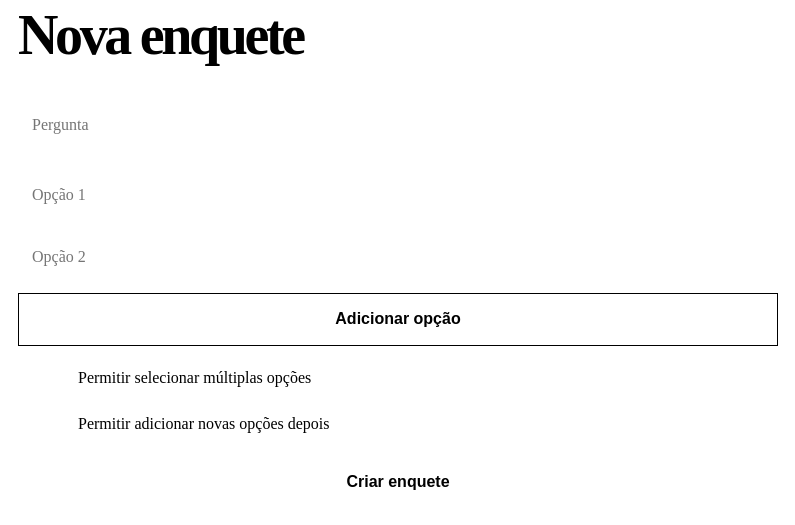
Test case: poll presentation › anchors API validation errors to the returned poll field
Type "Qual jogo escolheremos?" into the field labelled "Pergunta". click: [398, 125]
box: [18, 100, 778, 151]
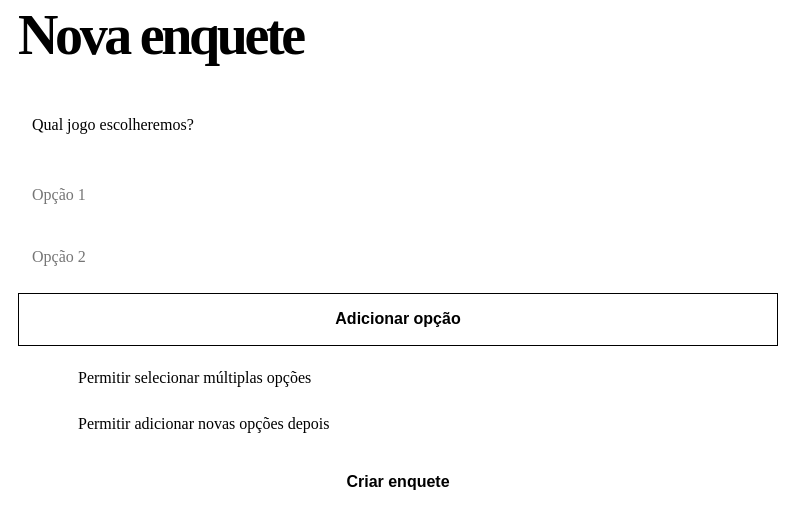
Type "Hades" into the field labelled "Opção 1". click: [398, 195]
box: [18, 170, 778, 221]
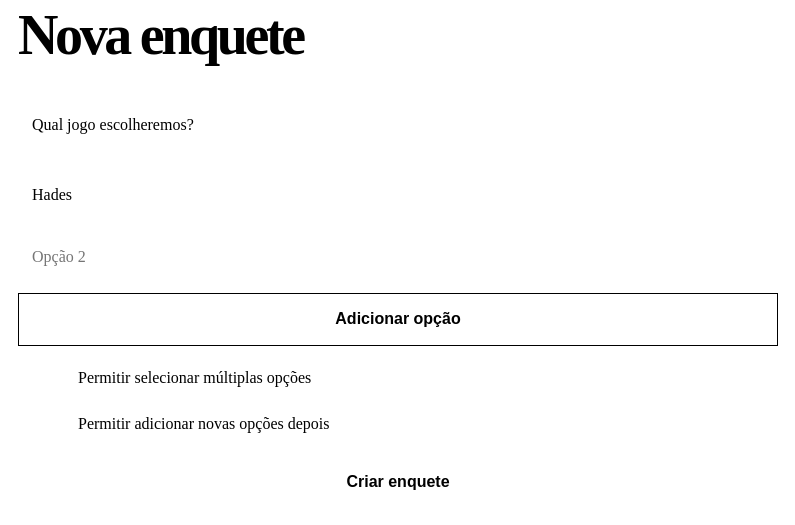
Type "Celeste" into the field labelled "Opção 2". click: [398, 257]
box: [18, 232, 778, 283]
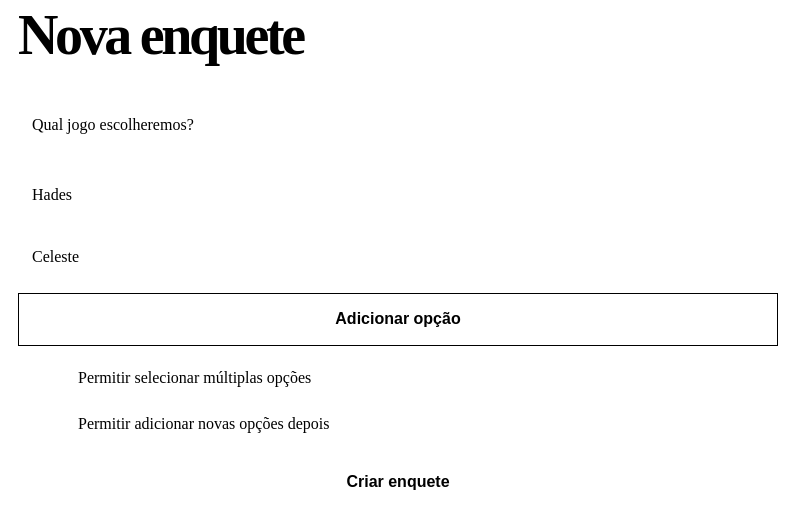
Click the button "Criar enquete". click: [398, 482]
box: [18, 456, 778, 508]
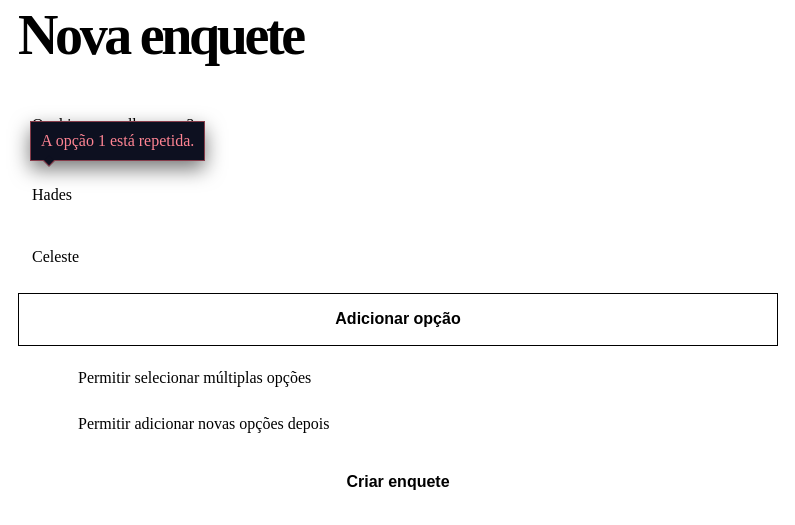
Result: the text "A opção 1 está repetida." is shown at [30, 121, 205, 161]
